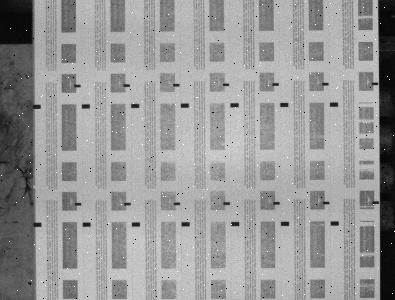backgroundclutter: (28, 281, 31, 285)
qblock: (33, 222, 42, 227), (82, 222, 91, 227), (132, 222, 140, 227), (281, 221, 289, 226), (181, 103, 189, 108), (131, 103, 139, 108), (280, 102, 288, 107), (33, 104, 41, 109), (330, 102, 338, 107), (181, 222, 190, 226), (330, 221, 339, 225), (230, 103, 239, 107), (231, 222, 239, 226), (82, 104, 90, 108)
smallqblock: (74, 84, 81, 88), (273, 201, 280, 205), (173, 83, 180, 87), (322, 82, 329, 86), (75, 202, 81, 206), (124, 202, 131, 205), (223, 202, 230, 205), (174, 202, 181, 205), (123, 84, 130, 87), (223, 83, 230, 86), (272, 83, 279, 86), (373, 201, 379, 204), (323, 201, 329, 204), (372, 82, 378, 85)
